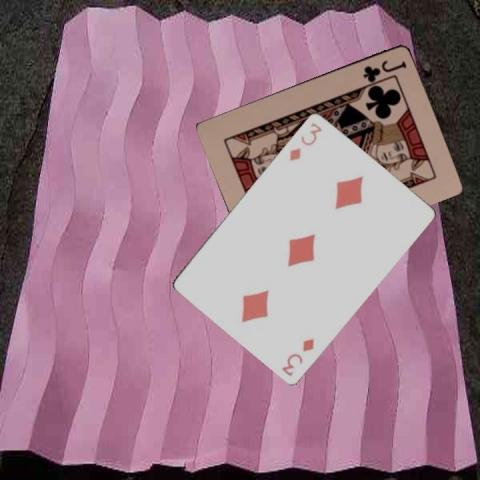3d: (286, 118, 324, 162), (279, 335, 315, 377)
Jc: (360, 57, 408, 82)
